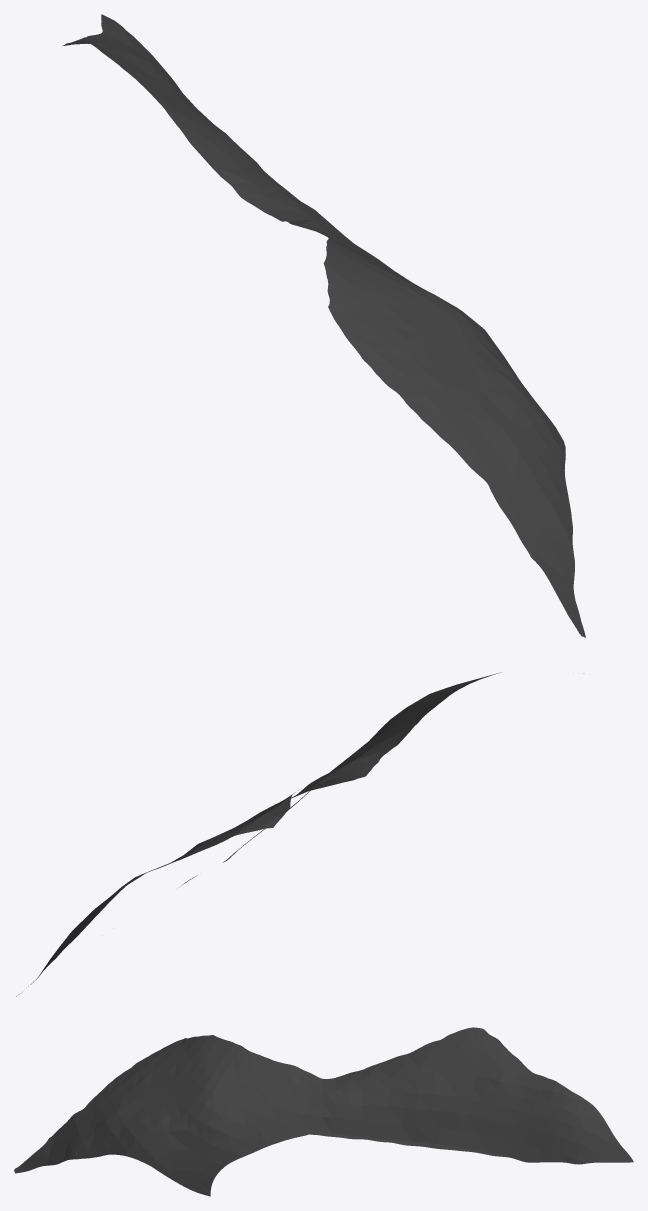
Rendered from lig_lat_collat_elbow.glb.
3 views of the same model, one above another, from view 1: azimuth 30°, elevation 25°; view 2: azimuth 150°, elevation 25°; view 3: azimuth 270°, elevation 25° (orthographic). The views are drawn at different scales.
Visible parts, largest first — view 1: lig_lat_collat_elbow; view 2: lig_lat_collat_elbow; view 3: lig_lat_collat_elbow.
Part boxes in pixels (<box>): lig_lat_collat_elbow: <box>62,14,585,637</box>; lig_lat_collat_elbow: <box>16,672,583,996</box>; lig_lat_collat_elbow: <box>14,1027,633,1196</box>.
Size of the model in its own units: 0.043 by 0.0465 by 0.1923.
Materials: 1 (1 with a texture image).
